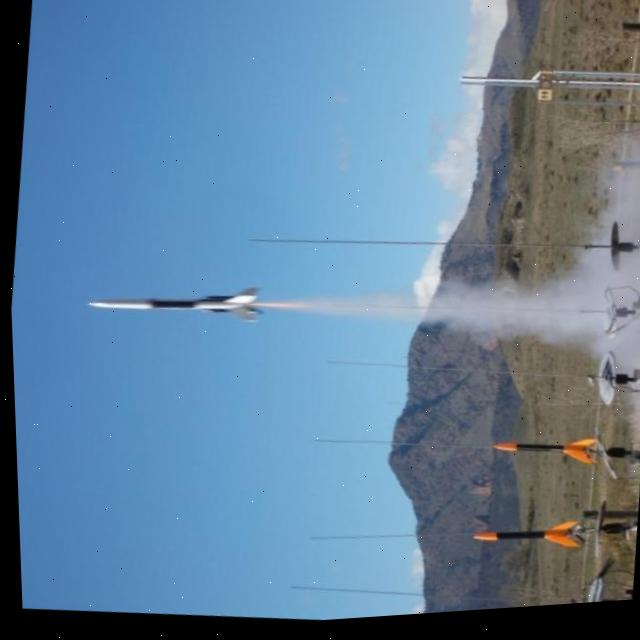missile: (80, 269, 271, 352), (463, 506, 580, 574), (485, 429, 602, 477)
